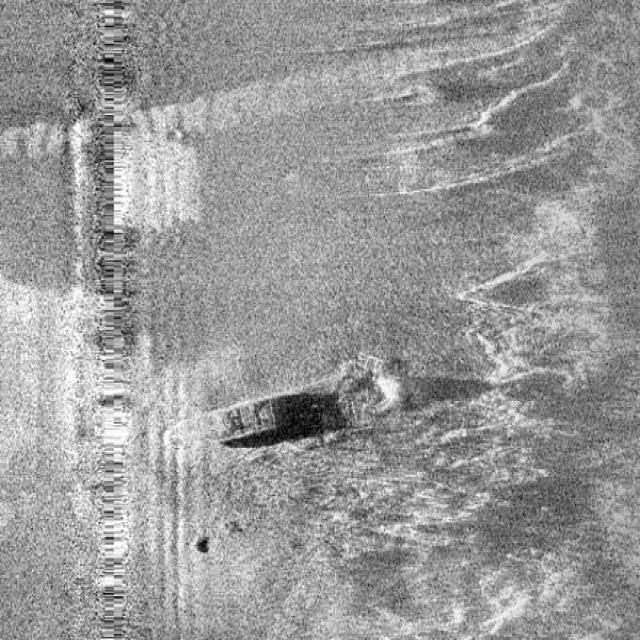ship: (178, 363, 401, 446)
